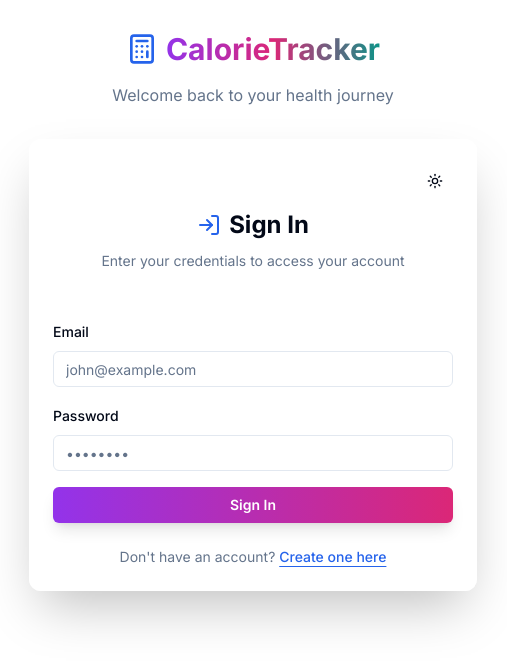
Test case: AuthForm › handles API error during login
The image size is (507, 664).
Type "test@example.com" into the field with test id "email-input" at [253, 369], box top-left (53, 351), bottom-right (453, 387)
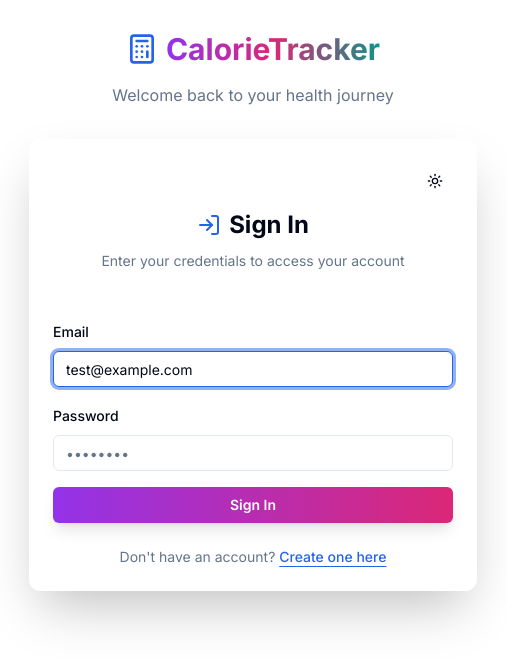
Type "password123" into the password field with test id "password-input" at [253, 453], box top-left (53, 435), bottom-right (453, 471)
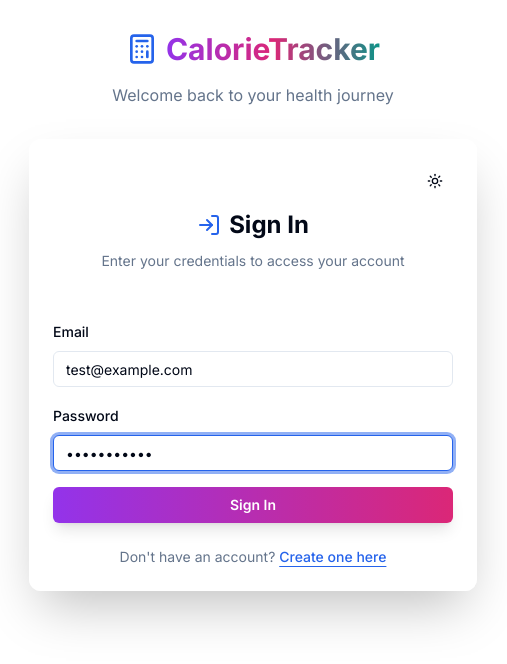
Click the button with test id "submit-button" at [253, 505], box top-left (53, 487), bottom-right (453, 523)
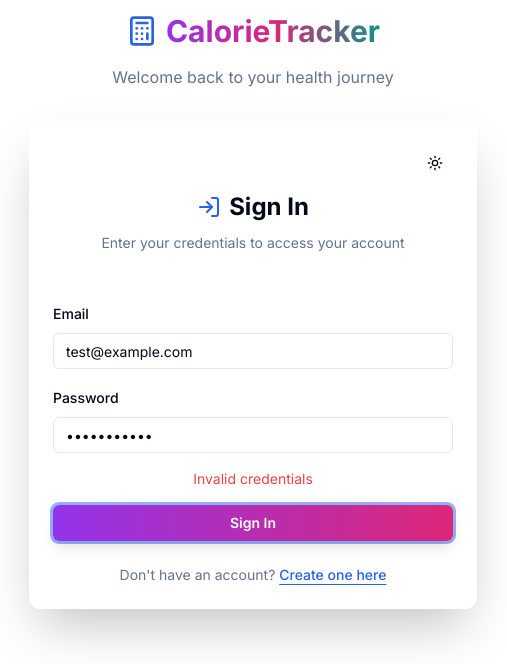
Check: the text with test id "form-error" reads "Invalid credentials", box top-left (193, 470), bottom-right (313, 487)
